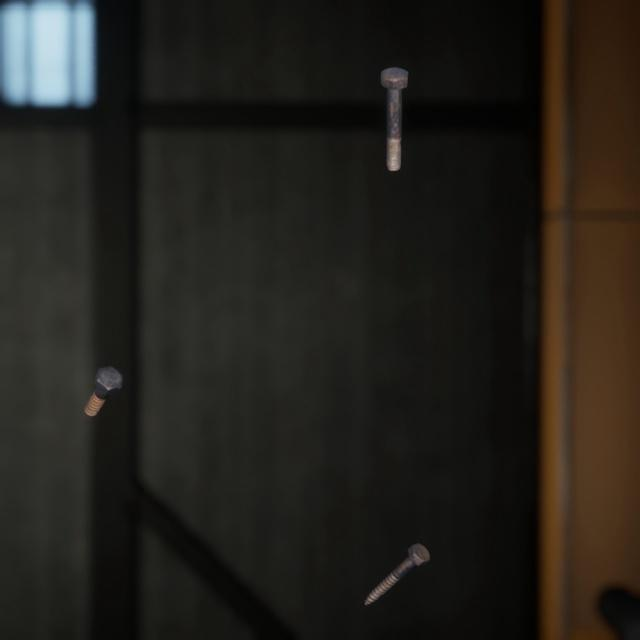bolt: (360, 516, 434, 588), (376, 51, 412, 164), (79, 342, 127, 402)
